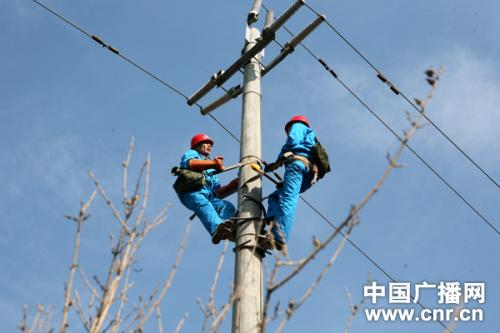boots: (257, 217, 285, 250), (212, 220, 235, 244)
hard-hat: (285, 114, 310, 134), (191, 134, 214, 149)
person: (257, 115, 330, 251), (173, 133, 239, 243)
ppe-suit: (259, 115, 329, 251), (173, 148, 237, 238)
